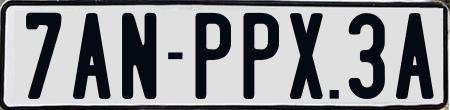3: (346, 12, 387, 101)
7: (25, 11, 66, 97)
A: (72, 10, 115, 98), (393, 11, 434, 101)
N: (121, 13, 159, 102)
P: (241, 12, 282, 104), (192, 10, 228, 101)
X: (289, 10, 322, 99)
